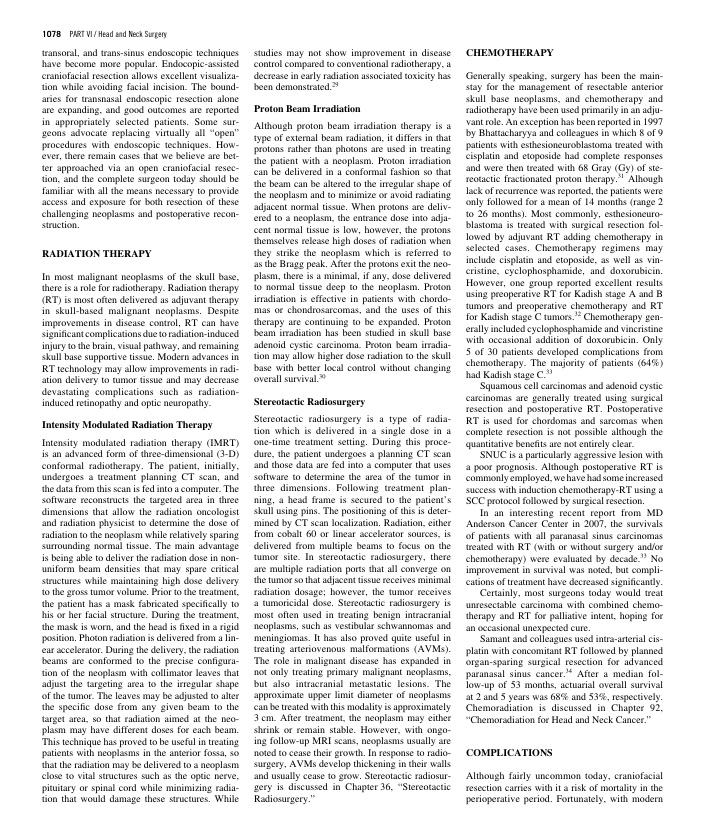header: (69, 30, 168, 40)
section-heading: (41, 248, 153, 258), (464, 47, 555, 57), (465, 748, 553, 758)
sub-section-heading: (41, 420, 213, 431), (253, 397, 366, 408), (253, 104, 361, 114)
text: (464, 70, 664, 725), (253, 413, 452, 805), (40, 437, 240, 806), (253, 120, 452, 384), (41, 48, 241, 229), (40, 271, 241, 410), (252, 47, 452, 92), (464, 770, 664, 805)
